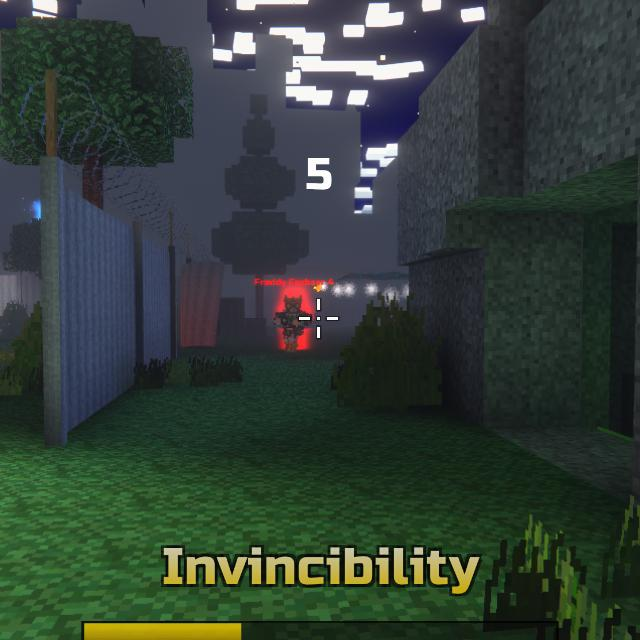Enemy: (274, 296, 311, 350)
